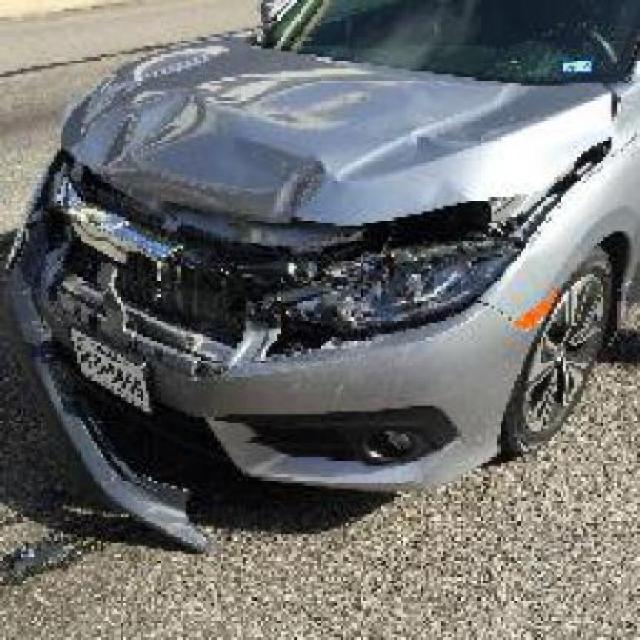damaged-front-bumper: (0, 290, 535, 469)
damaged-head-light: (278, 240, 517, 314)
damaged-hood: (72, 31, 610, 212)
